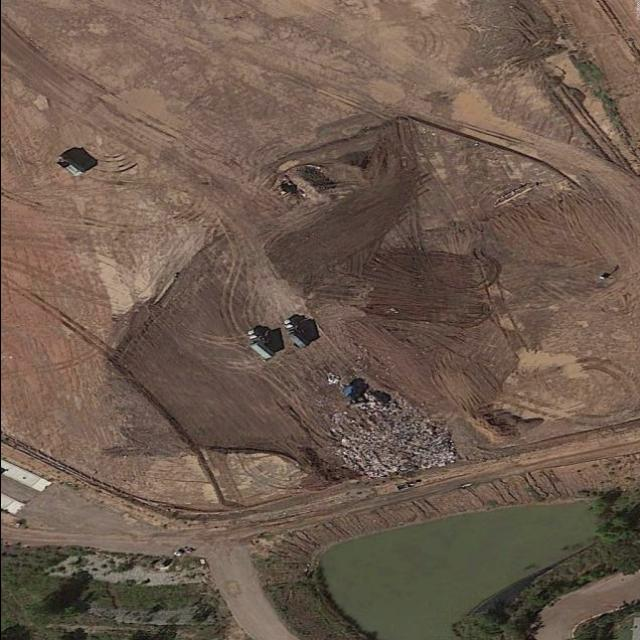dump_site: (312, 387, 469, 486)
